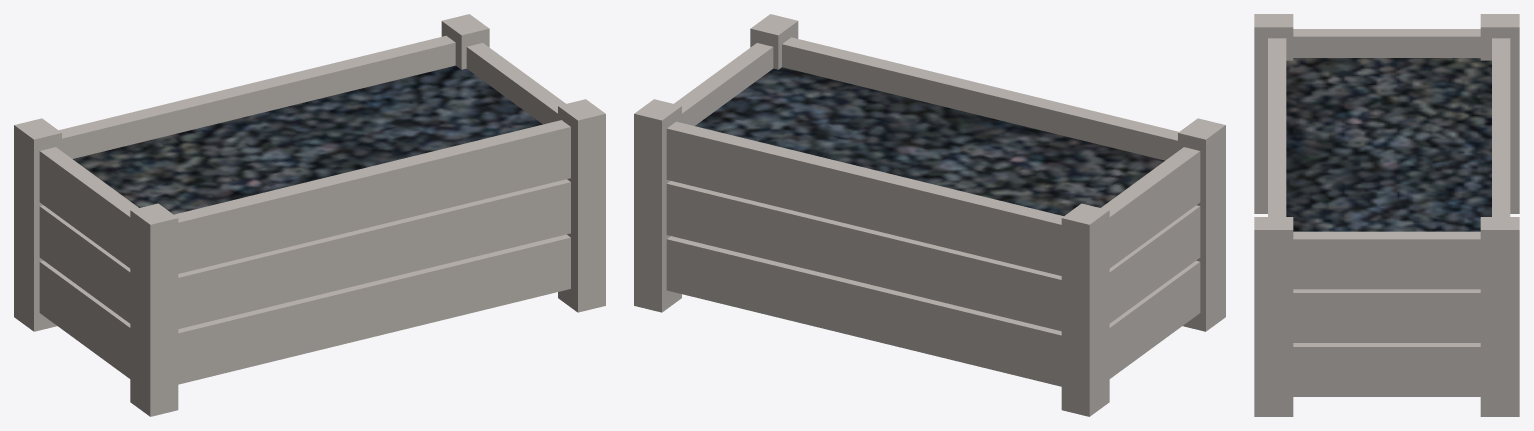
File: StoreBox_A_04.fbx
3 renders of one model, left to right at view 1: azimuth 30°, elevation 25°; view 2: azimuth 150°, elevation 25°; view 3: azimuth 270°, elevation 25°, orthographic. The views are drawn at different scales.
Visible parts, largest first — view 1: StoreBox_A_04; view 2: StoreBox_A_04; view 3: StoreBox_A_04.
Boxes of the visible parts, x1,y1,x2,y2 form: StoreBox_A_04: [14, 14, 605, 416]; StoreBox_A_04: [634, 14, 1225, 416]; StoreBox_A_04: [1254, 14, 1519, 416].
Size of the model in its own units: 119 by 47.93 by 61.63.
